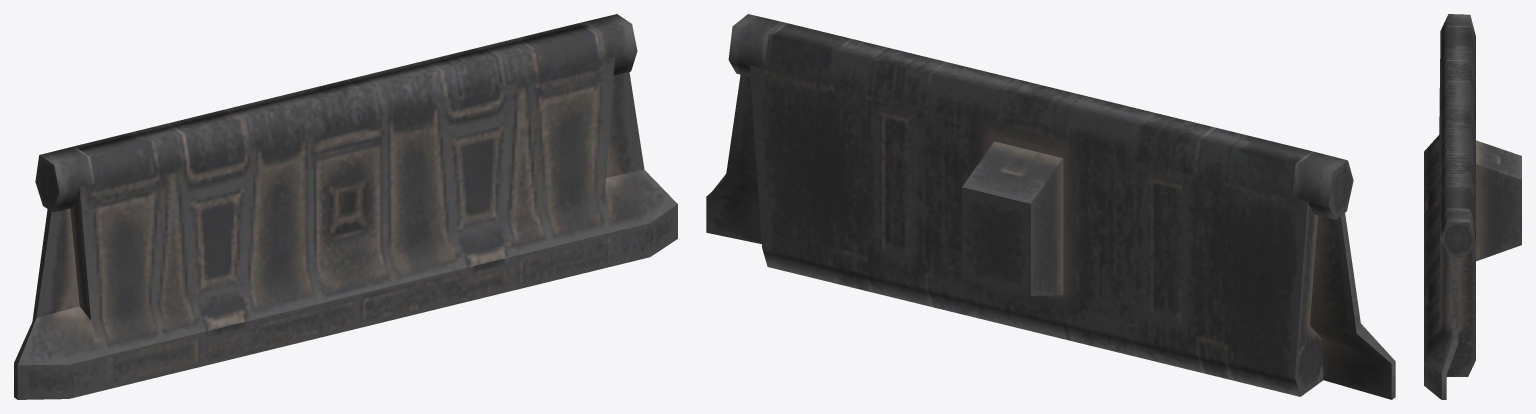
The picture shows the model from 3 angles, left to right: view 1: azimuth 30°, elevation 25°; view 2: azimuth 150°, elevation 25°; view 3: azimuth 270°, elevation 25°; orthographic projection. The views are drawn at different scales.
Visible parts, largest first — view 1: set_0_group_0; view 2: set_0_group_0; view 3: set_0_group_0.
Boxes of the visible parts, bbox=[...] form: set_0_group_0: bbox=[14, 14, 677, 399]; set_0_group_0: bbox=[706, 14, 1395, 399]; set_0_group_0: bbox=[1424, 14, 1521, 399].
Bounding box in the file's own units: 0.6883 × 0.2251 × 0.1198.
1 material, 1 textured.
